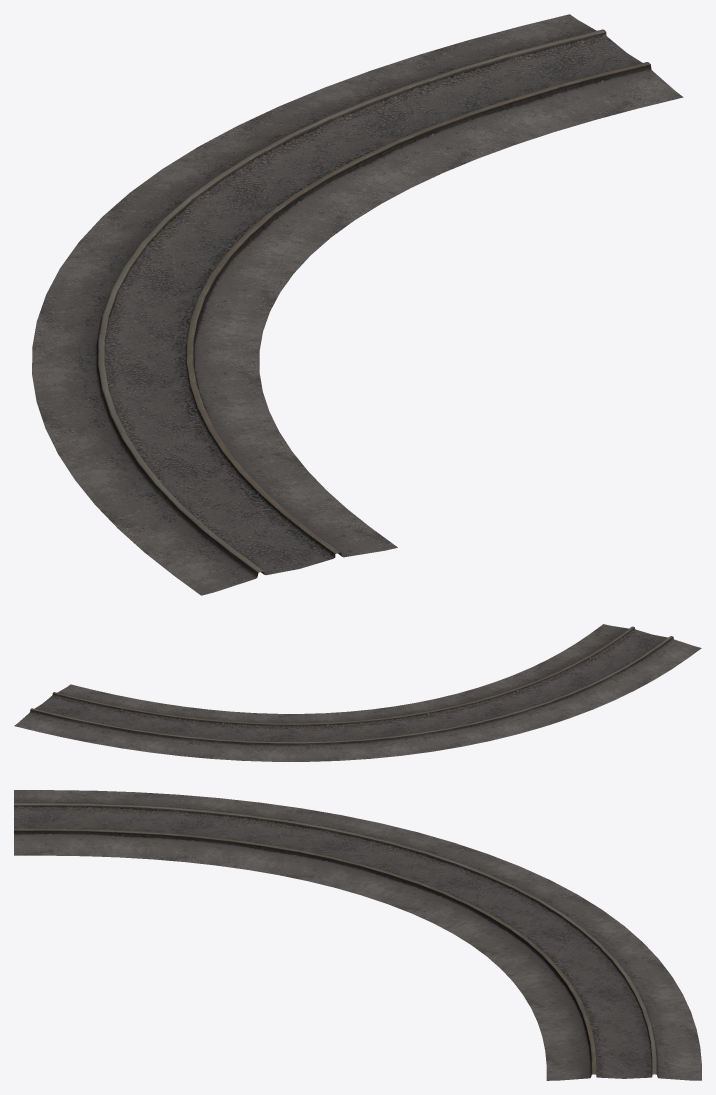
The model's file is Rail Tunnel Corner.dae.
3 renders of one model, top to bottom at view 1: azimuth 30°, elevation 25°; view 2: azimuth 150°, elevation 25°; view 3: azimuth 270°, elevation 25°, orthographic. The views are drawn at different scales.
Visible parts, largest first — view 1: Rail_90Deg; view 2: Rail_90Deg; view 3: Rail_90Deg.
Boxes of the visible parts, bbox=[...] form: Rail_90Deg: bbox=[32, 14, 683, 595]; Rail_90Deg: bbox=[14, 624, 701, 761]; Rail_90Deg: bbox=[14, 790, 701, 1080].
Size of the model in its own units: 1127 by 1127 by 11.7.
